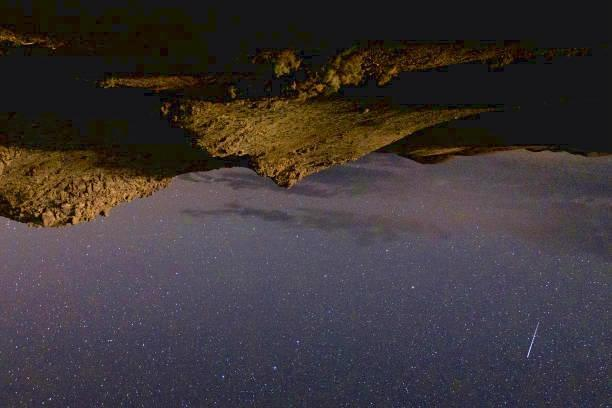meteorite: (518, 319, 555, 355)
